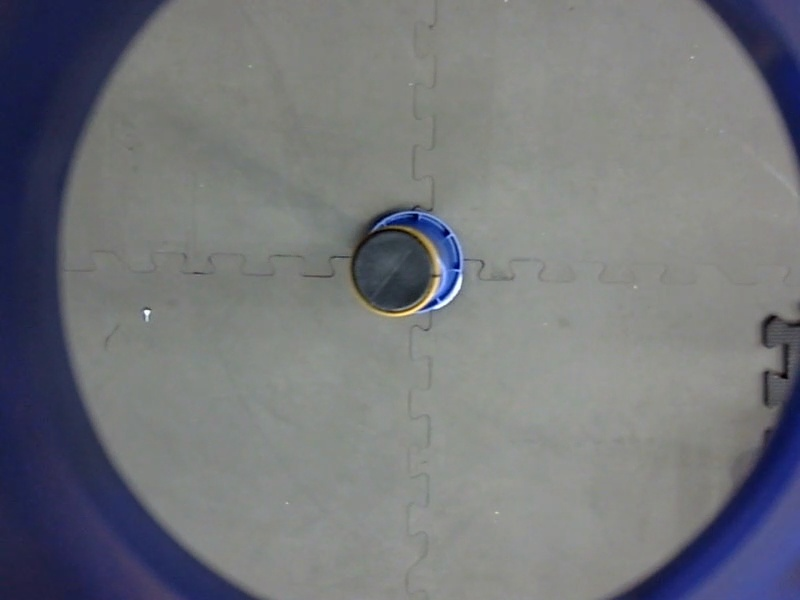tip: (340, 220, 442, 321)
